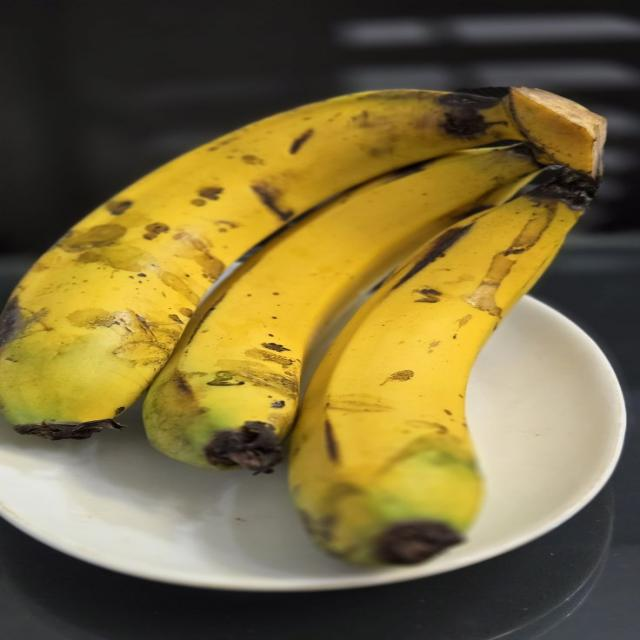unpeal banana: (0, 89, 597, 439), (144, 144, 539, 472), (290, 168, 595, 563)
